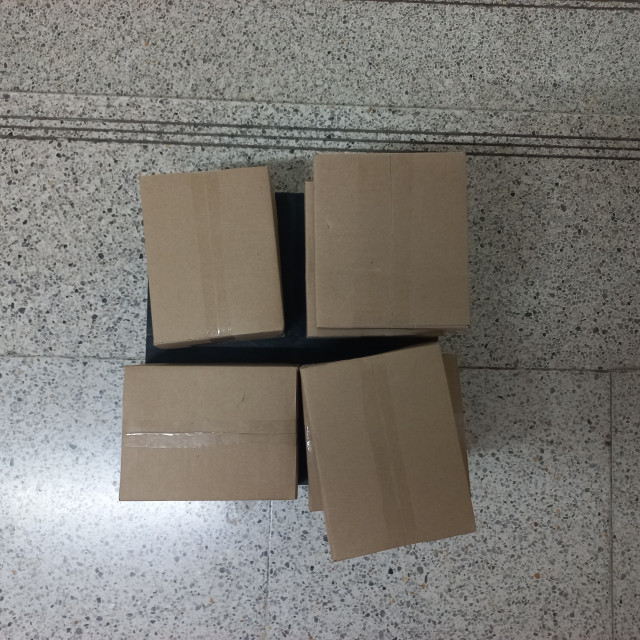box: (296, 341, 481, 564), (306, 151, 474, 334), (135, 161, 289, 352), (116, 361, 300, 501)
